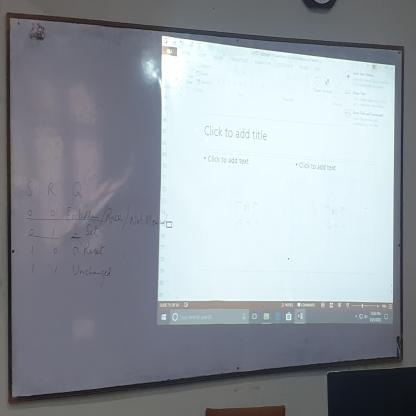Handwritten text: (25, 176, 84, 204), (71, 262, 113, 286), (131, 209, 169, 230), (66, 204, 99, 224), (84, 240, 105, 260), (105, 206, 123, 229), (85, 223, 98, 238)
Whiteboard: (4, 11, 405, 407)
